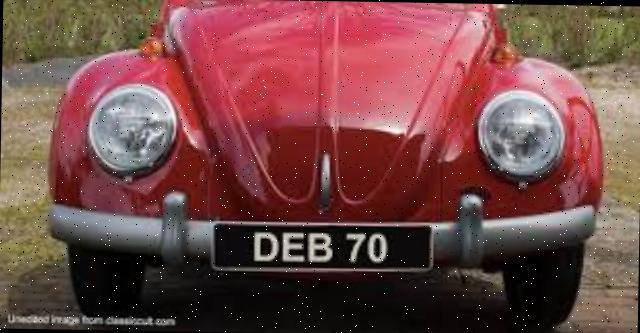License_Plate: (202, 217, 441, 288)
car: (37, 5, 607, 319)
